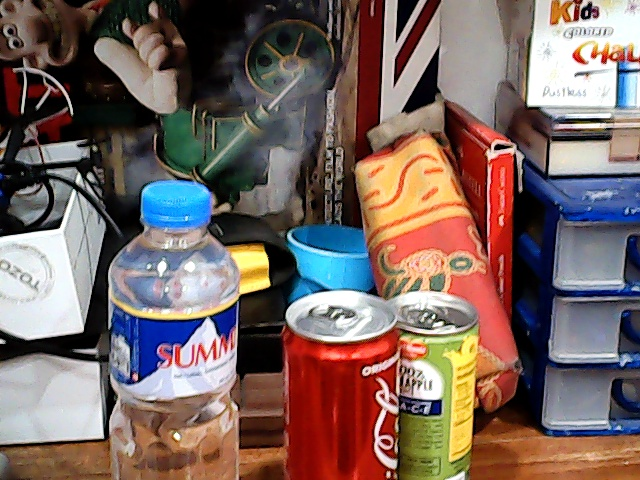Cola: (277, 284, 401, 480)
Pine Juice: (394, 294, 480, 480)
Summit Water: (102, 174, 243, 480)
